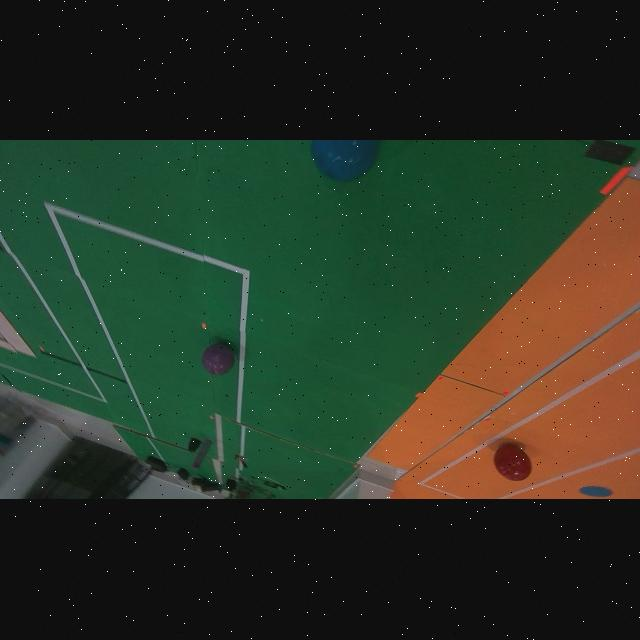B: (311, 141, 380, 182)
P: (202, 344, 234, 376)
R: (495, 445, 532, 482)
